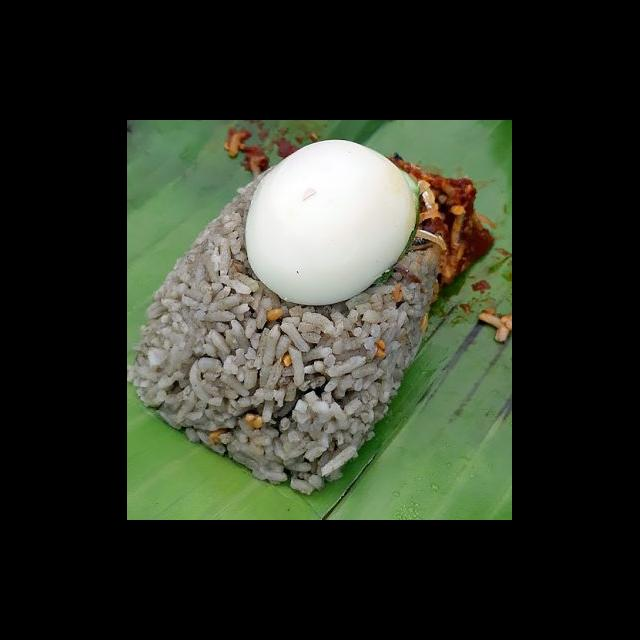food_waste: (142, 154, 508, 494)
